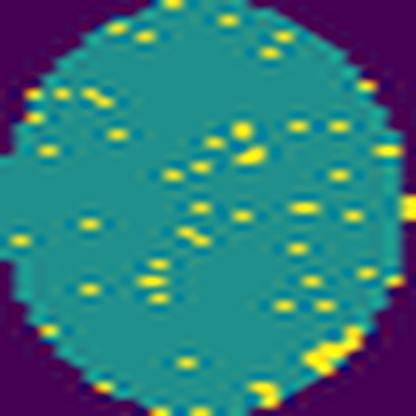Edge-Loc: (296, 319, 371, 381)
